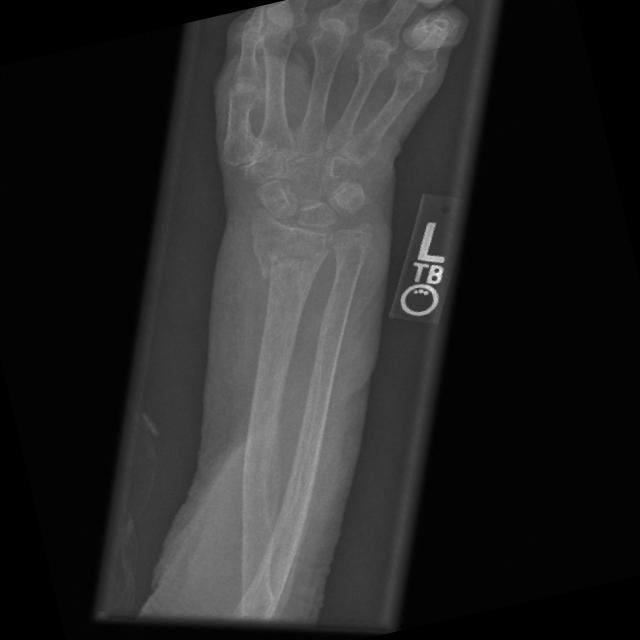fingers positive: (235, 232, 366, 309)
